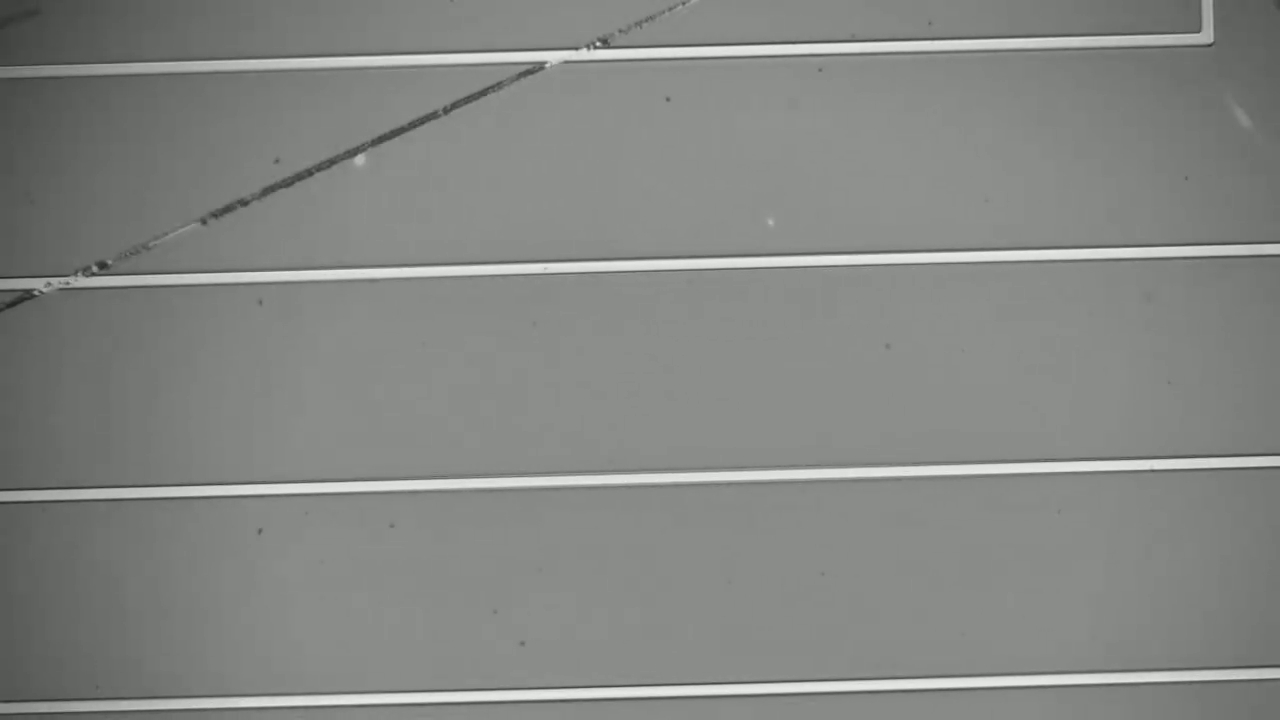scratch: (1, 10, 688, 319)
